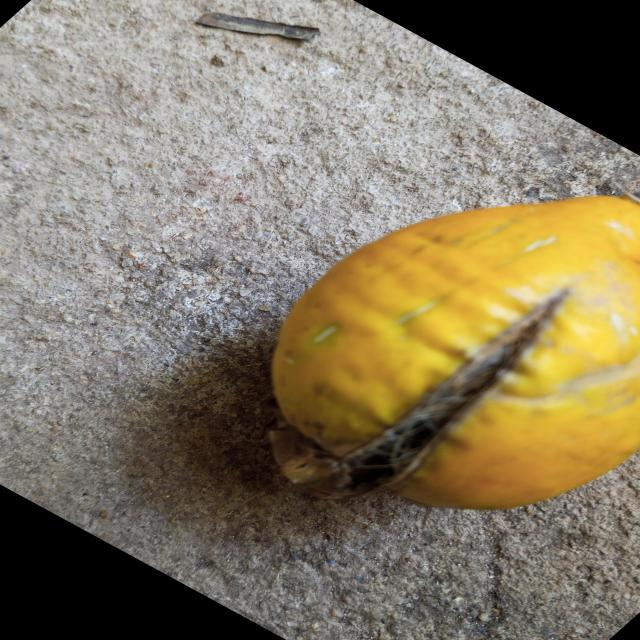damaged: (270, 195, 640, 509)
